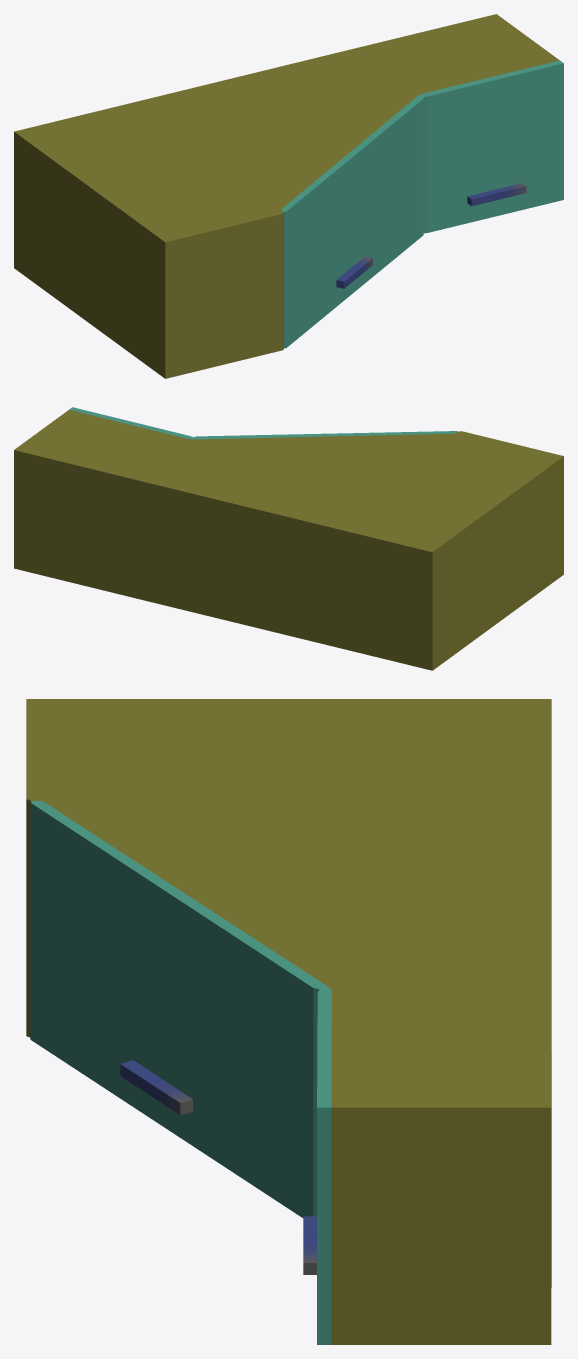
Rendered from Kitchen_Cabinet7.fbx.
The picture shows the model from 3 angles, top to bottom: view 1: azimuth 30°, elevation 25°; view 2: azimuth 150°, elevation 25°; view 3: azimuth 270°, elevation 25°; orthographic projection. The views are drawn at different scales.
Parts seen in each view (by area): view 1: Kitchen_Cabinet7; view 2: Kitchen_Cabinet7; view 3: Kitchen_Cabinet7.
Boxes of the visible parts, x1=… form: Kitchen_Cabinet7: x1=14, y1=14, x2=563, y2=378; Kitchen_Cabinet7: x1=14, y1=407, x2=563, y2=670; Kitchen_Cabinet7: x1=26, y1=699, x2=551, y2=1344.
Size of the model in its own units: 221 by 59.82 by 120.
